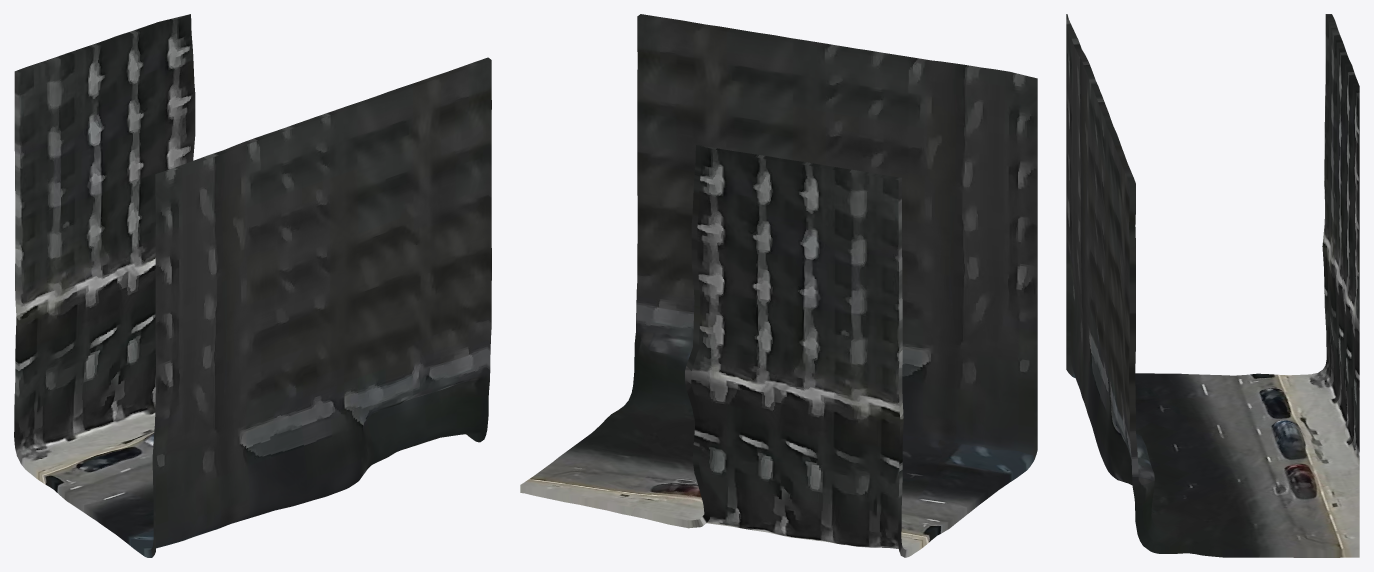
The model's file is z20-167765-405238-h0-yup-uvflip-v3-world.glb.
The picture shows the model from 3 angles, left to right: view 1: azimuth 30°, elevation 25°; view 2: azimuth 150°, elevation 25°; view 3: azimuth 270°, elevation 25°; orthographic projection. The views are drawn at different scales.
Size of the model in its own units: 30.16 by 31 by 22.04.
1 material, 1 textured.
